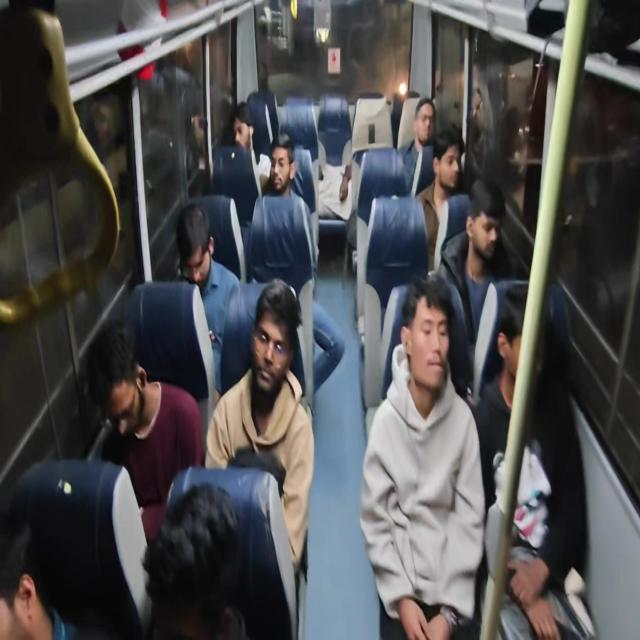person: (360, 274, 486, 638), (474, 280, 591, 638), (205, 278, 315, 574), (84, 319, 205, 546), (1, 456, 150, 639), (251, 134, 345, 391), (141, 481, 244, 638), (174, 202, 240, 396), (473, 284, 529, 512), (437, 176, 510, 344), (0, 516, 77, 640), (260, 134, 318, 280), (414, 125, 465, 273), (230, 100, 271, 196), (399, 96, 436, 196), (462, 80, 494, 186)
